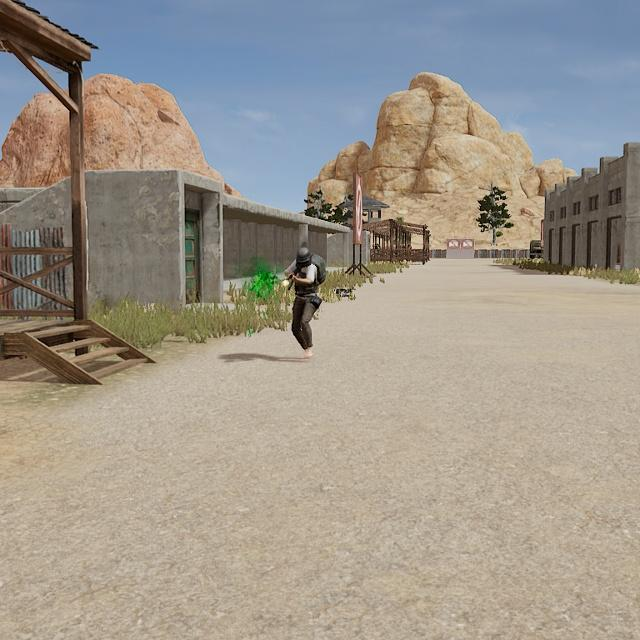head: (295, 246, 314, 269)
people: (284, 245, 325, 360)
